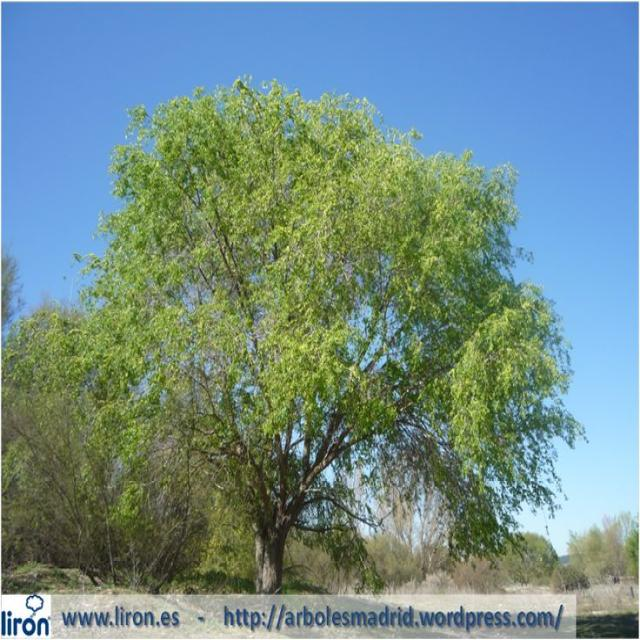olmo: (42, 88, 572, 591)
